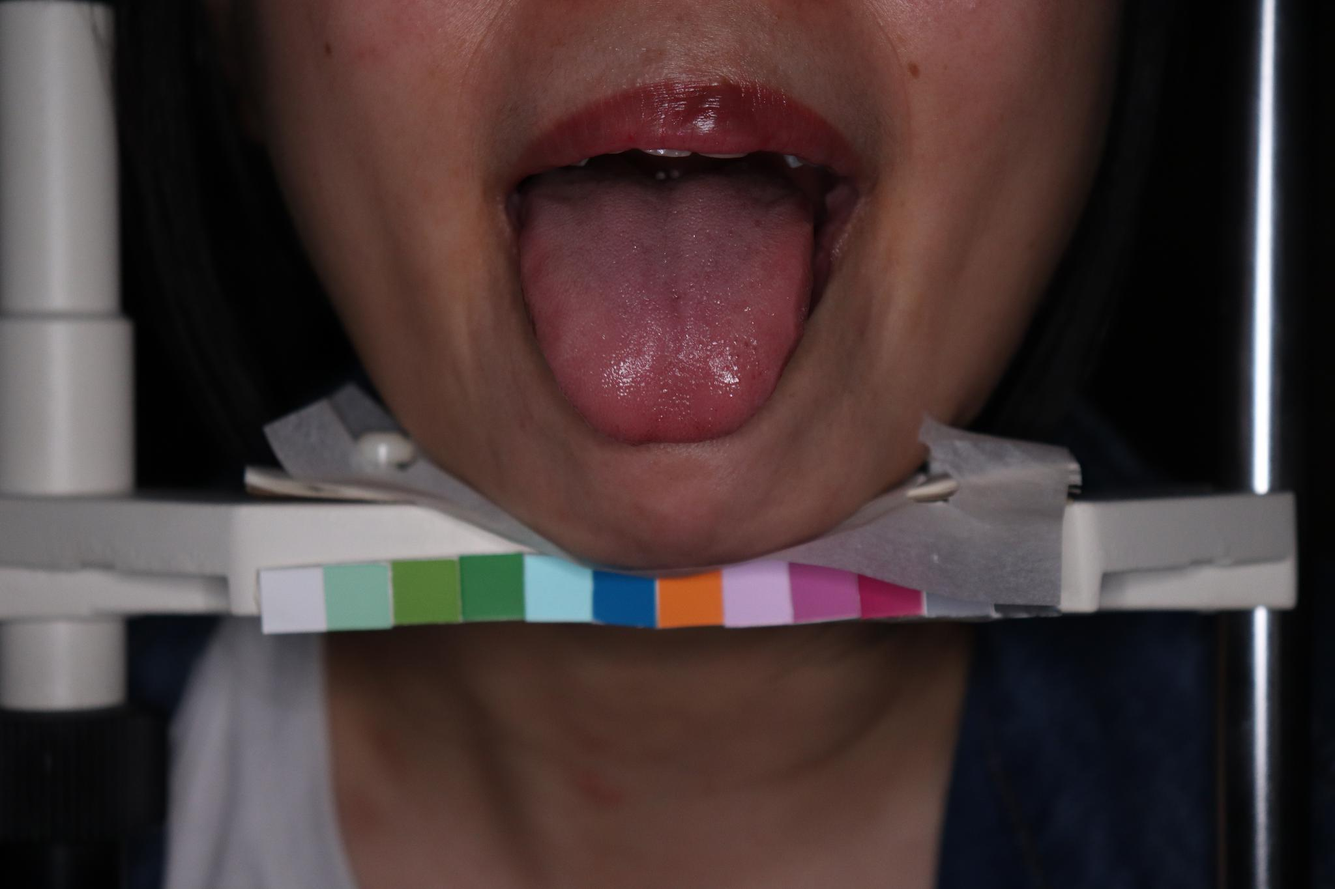baitaishe: (520, 160, 812, 445)
hongdianshe: (733, 354, 741, 361), (750, 373, 756, 382), (742, 341, 748, 349)
hongshe: (520, 160, 813, 445)
